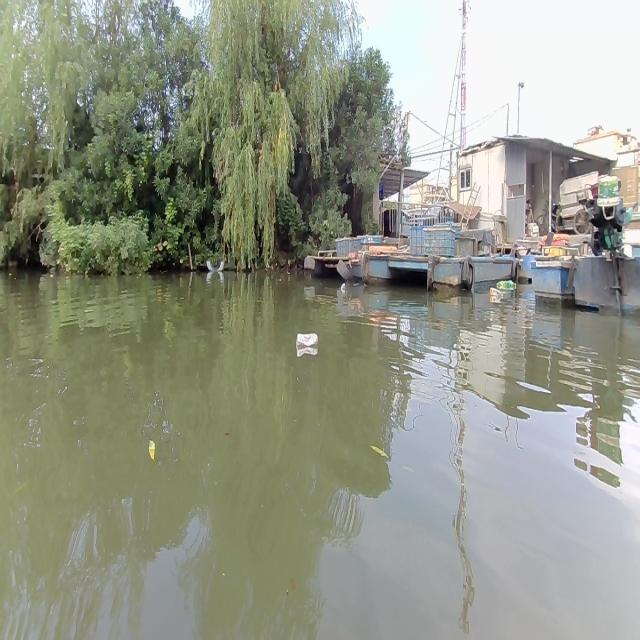bottle: (294, 330, 320, 348), (496, 277, 516, 295), (489, 286, 501, 304)
